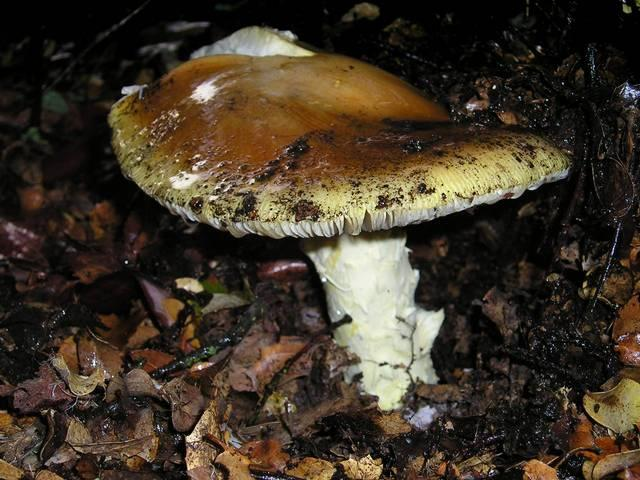edible_mushroom: (106, 29, 572, 413)
